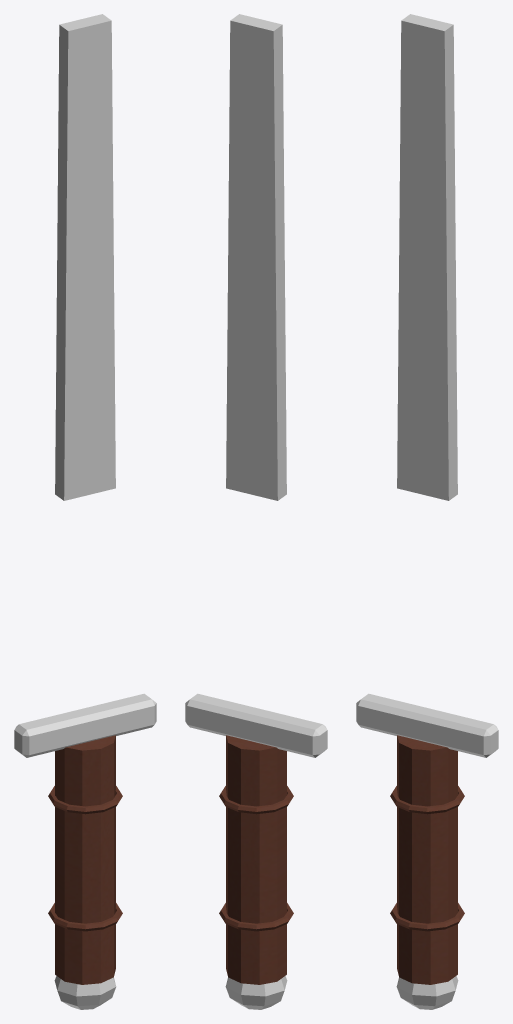
File: broken_sword.fbx
The picture shows the model from 3 angles, left to right: view 1: azimuth 30°, elevation 25°; view 2: azimuth 150°, elevation 25°; view 3: azimuth 330°, elevation 25°; orthographic projection.
Visible parts, largest first — view 1: broken_sword; view 2: broken_sword; view 3: broken_sword.
Part boxes in pixels (x1,y1,x2,y2): broken_sword: (14, 14, 156, 1009); broken_sword: (185, 14, 327, 1009); broken_sword: (356, 14, 498, 1009).
Size of the model in its own units: 0.06 by 0.4198 by 0.029.
2 materials, 1 textured.
